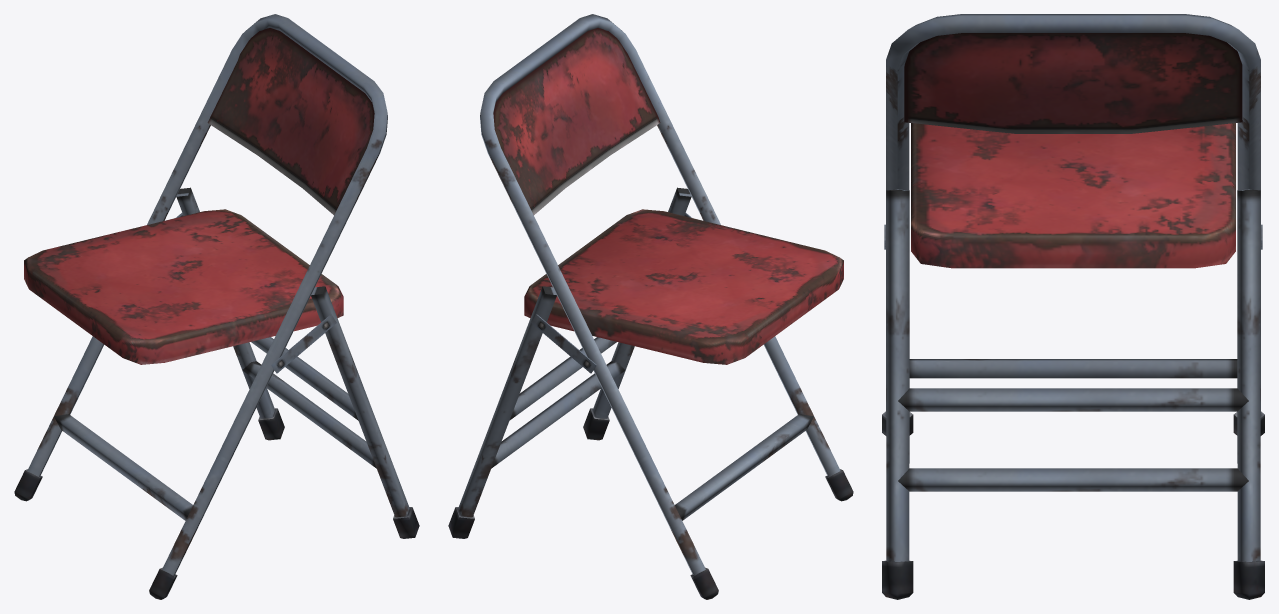
The model's file is chair10.fbx.
3 renders of one model, left to right at view 1: azimuth 30°, elevation 25°; view 2: azimuth 150°, elevation 25°; view 3: azimuth 270°, elevation 25°, orthographic. The views are drawn at different scales.
Parts seen in each view (by area): view 1: chair10; view 2: chair10; view 3: chair10.
Part boxes in pixels (bbox=[...]): chair10: bbox=[14, 14, 419, 599]; chair10: bbox=[448, 14, 853, 599]; chair10: bbox=[882, 14, 1264, 599].
Bounding box in the file's own units: 51.86 × 79.39 × 47.69.
